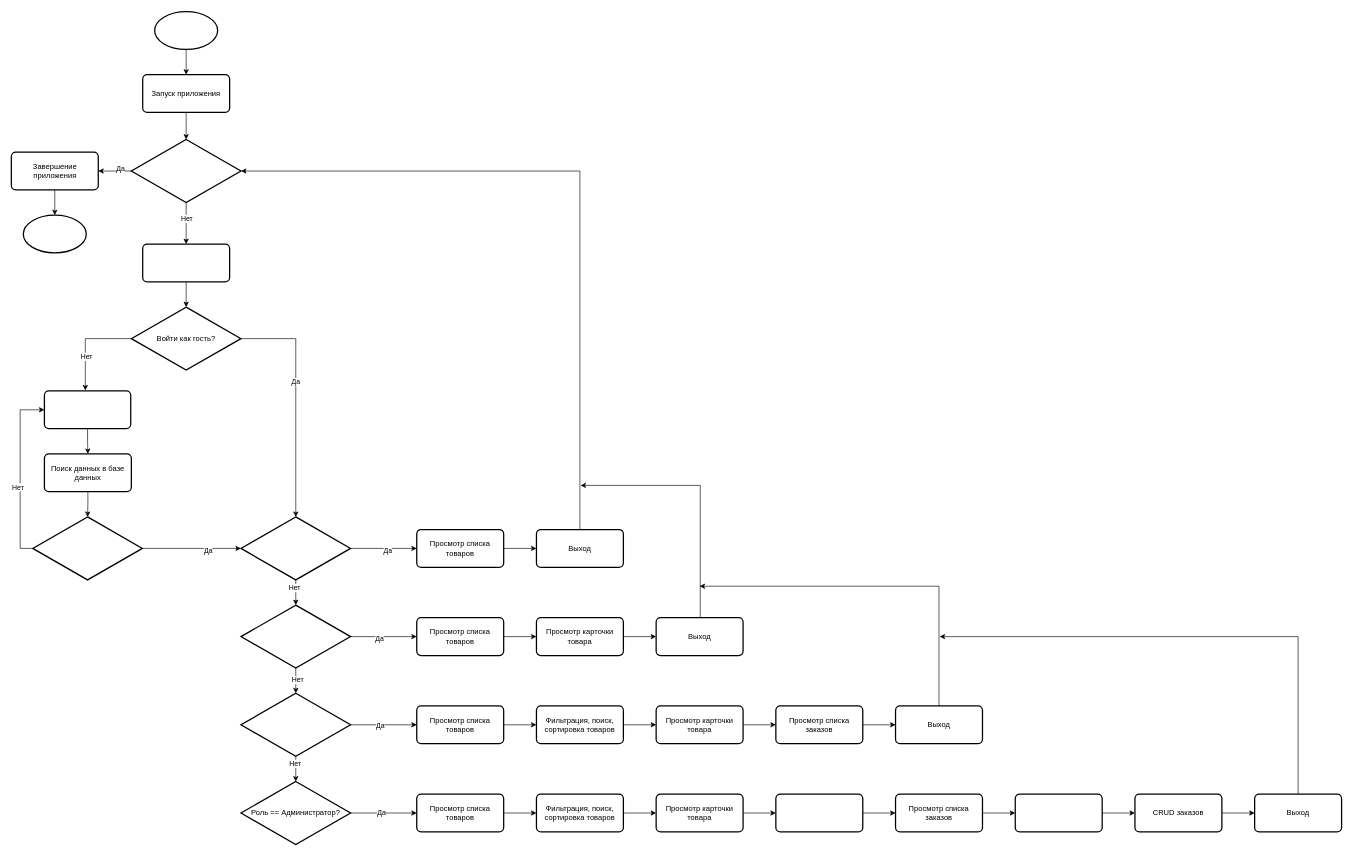
This 1353x856 diagram has some shape labels left out. Each missing label, with the centre of its shape:
CRUD товаров: [819,812]
Ввод логина и пароля: [87,409]
Данные верны?: [87,548]
Закрыть приложение?: [185,171]
Конец: [54,233]
Начало: [186,30]
Отображение окна входа: [186,262]
Просмотр карточки заказа: [1058,812]
Роль == Гость?: [295,548]
Роль == Клиент?: [295,636]
Роль == Менеджер?: [295,724]
